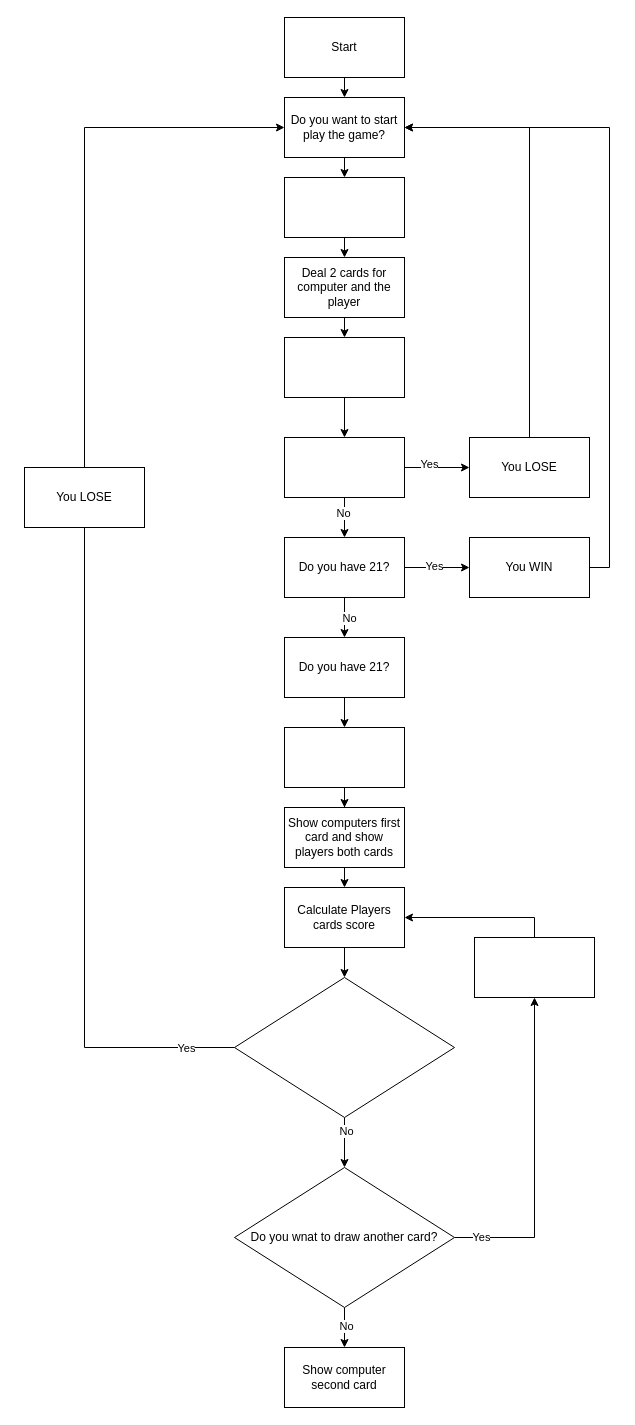
The diagram is 635 pixels wide and 1425 high, and some of its shapes have lost their labels. Each missing label, with the centre of its shape:
Calculate PC cards score: pixel 344 757
Check if either one has blackjack (10+ Ace): pixel 344 367
Does PC have 21?: pixel 344 467
Draw a card: pixel 534 967
Is it over 21?: pixel 344 1047
Print Logo: pixel 344 207
